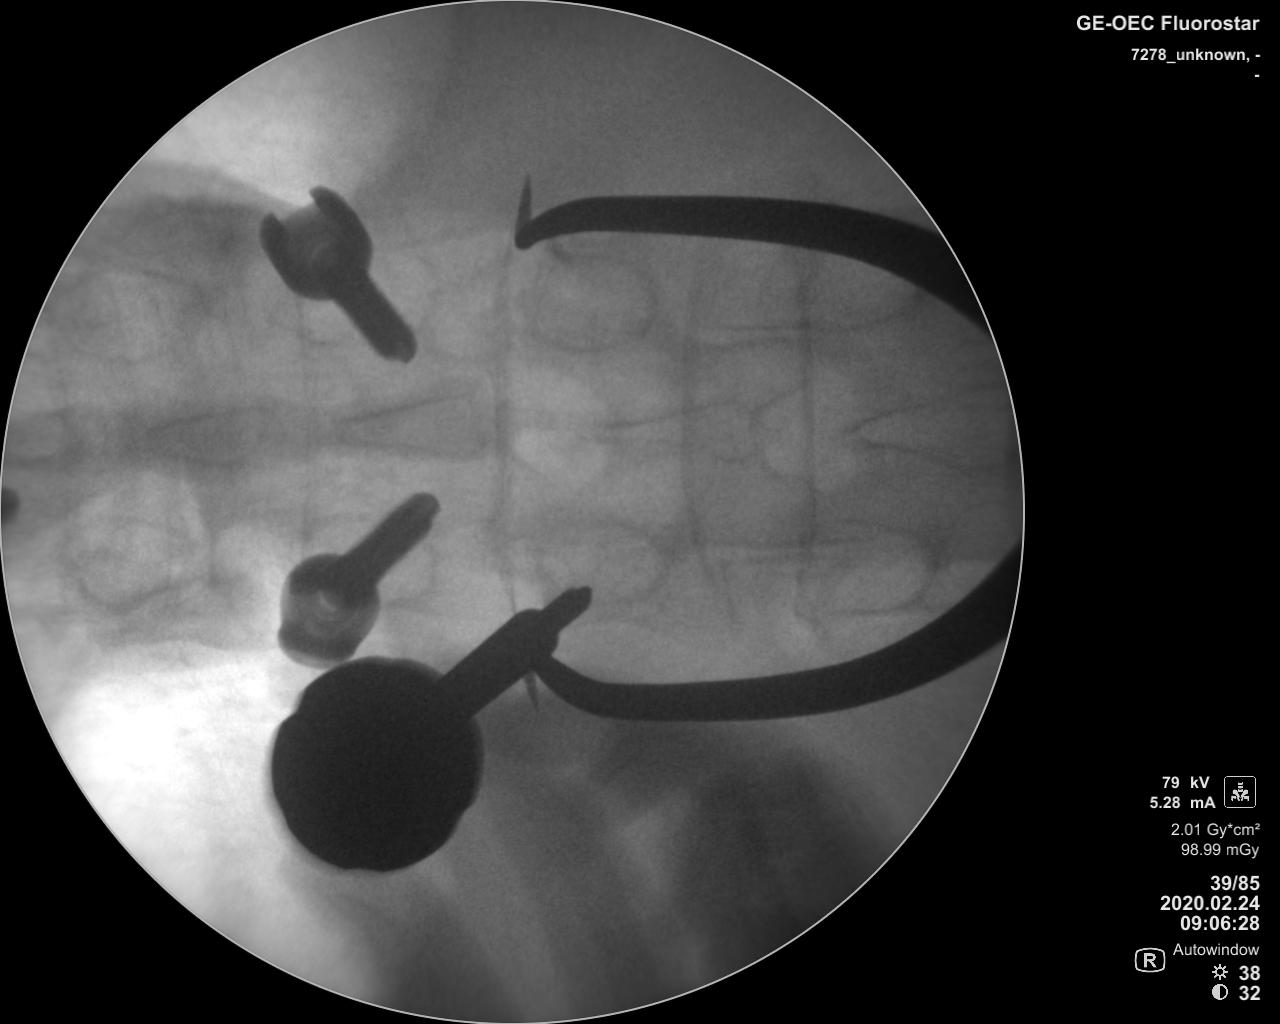eyes: (283, 248, 443, 338), (68, 264, 213, 360), (528, 254, 661, 354), (800, 516, 935, 614), (301, 519, 442, 608), (55, 515, 197, 602), (535, 515, 670, 605)
line: (682, 247, 714, 594), (491, 241, 515, 604), (795, 258, 821, 557), (287, 297, 318, 554)
nose: (851, 392, 1013, 475), (328, 386, 485, 462), (590, 393, 757, 464), (137, 398, 287, 472), (5, 408, 130, 470)
